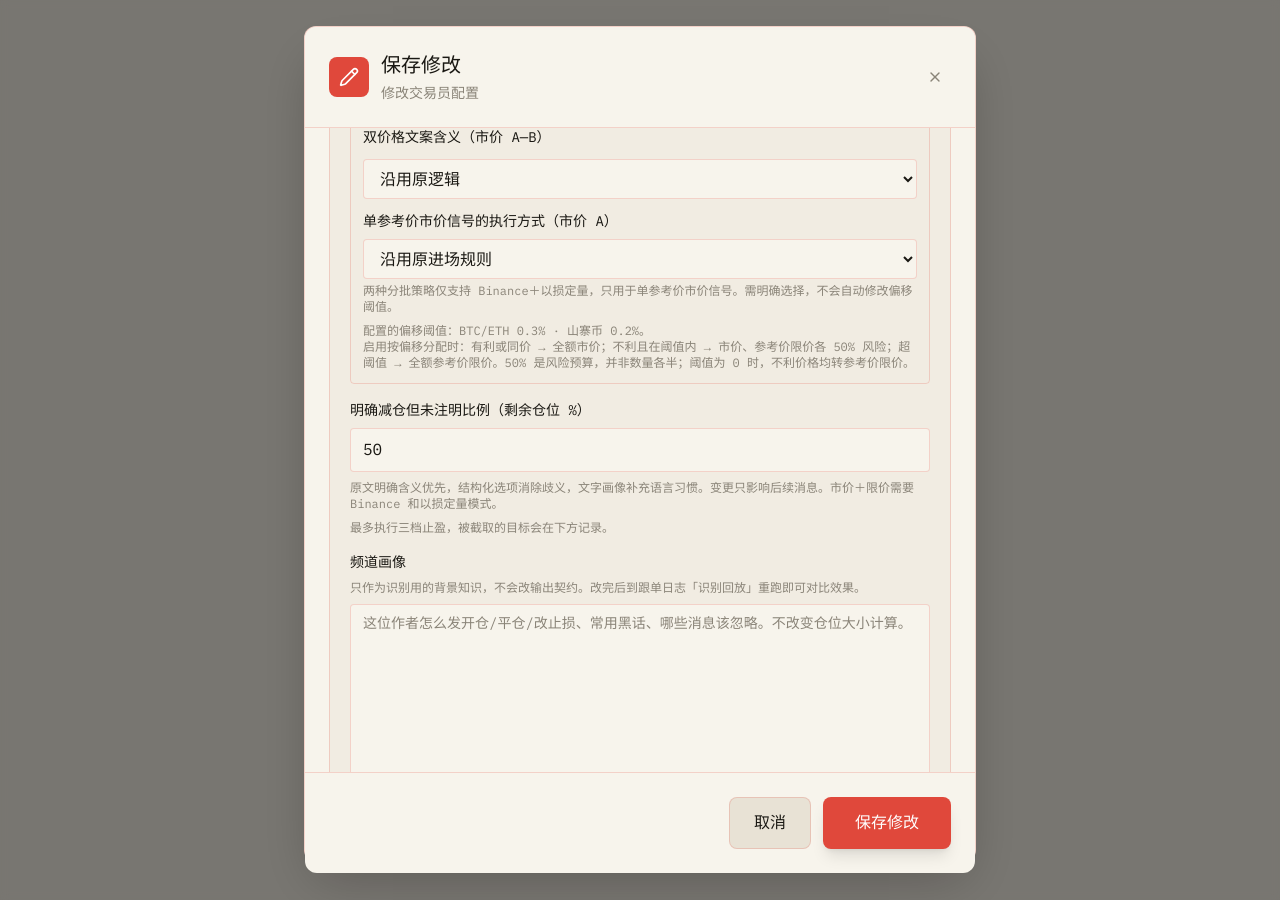
Test case: copy-trading opt-in settings › rejects an invalid default reduction -1
(page scrolled)
Replace the text in the number field labelled "明确减仓但未注明比例（剩余仓位 %）" with "-1" at (640, 450), box [350,428,930,472]
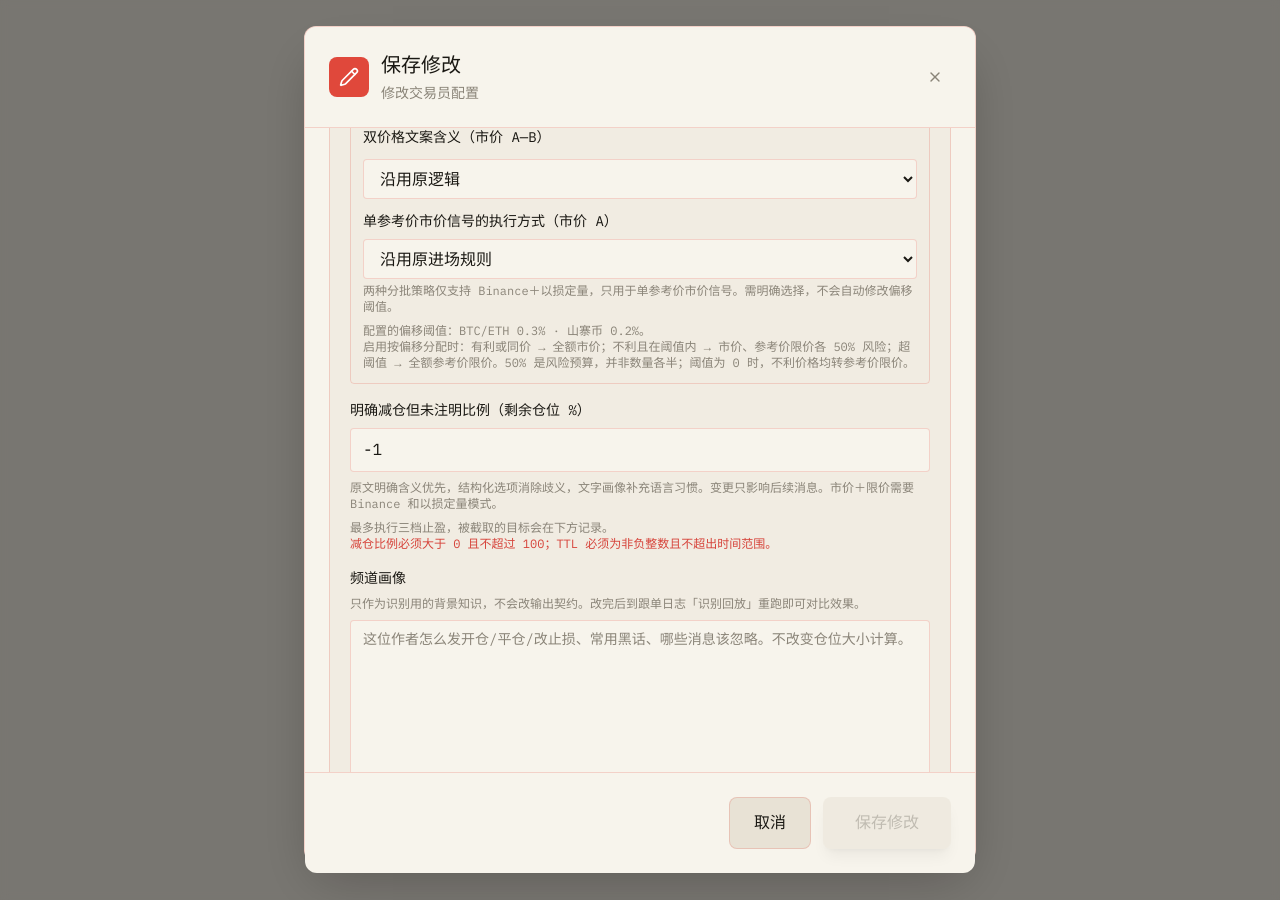
expect the button "保存修改" is disabled: met, box [823,797,951,849]
